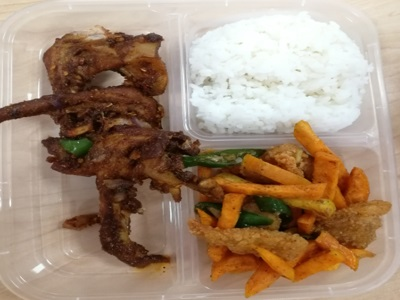r5: (206, 147, 378, 282)
rice: (200, 20, 355, 126)
yt: (30, 34, 170, 275)
